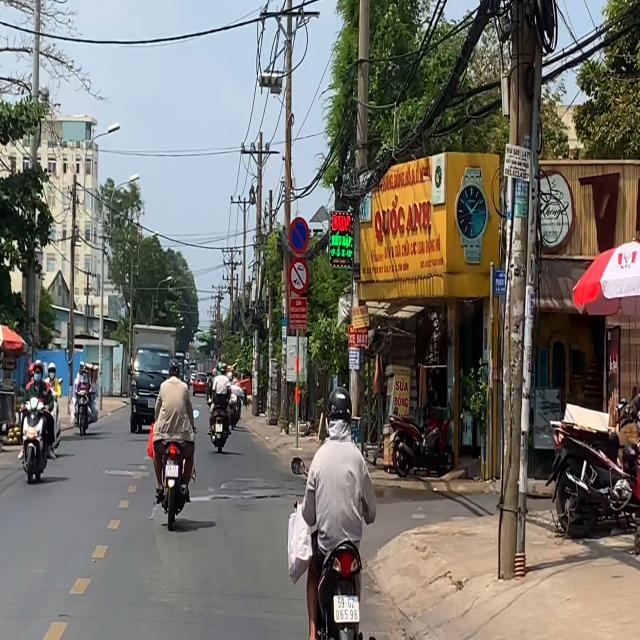Cam con lai: (288, 256, 311, 296)
Cam do: (288, 216, 310, 254)
